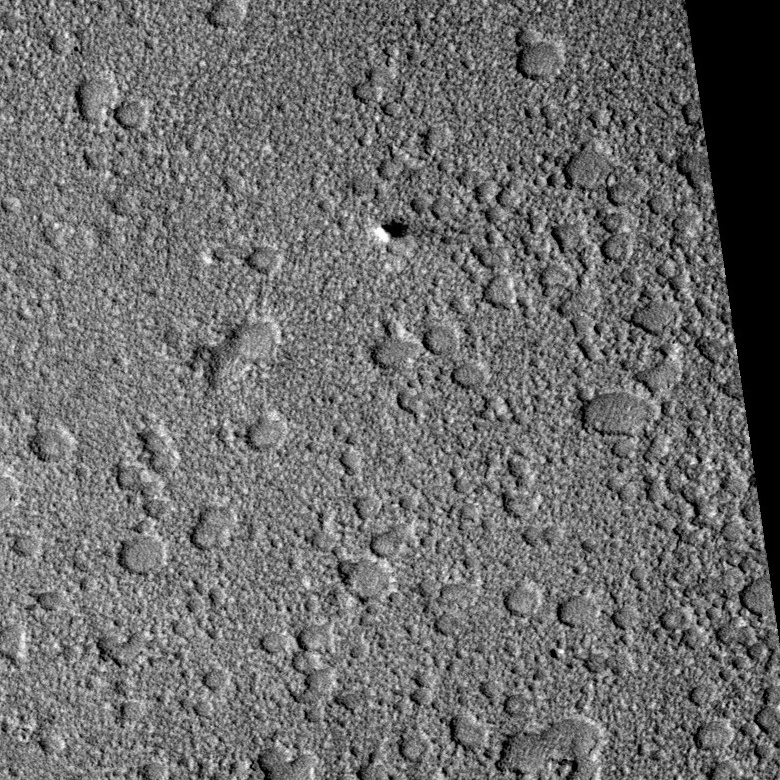dust_devil: (370, 217, 413, 244)
